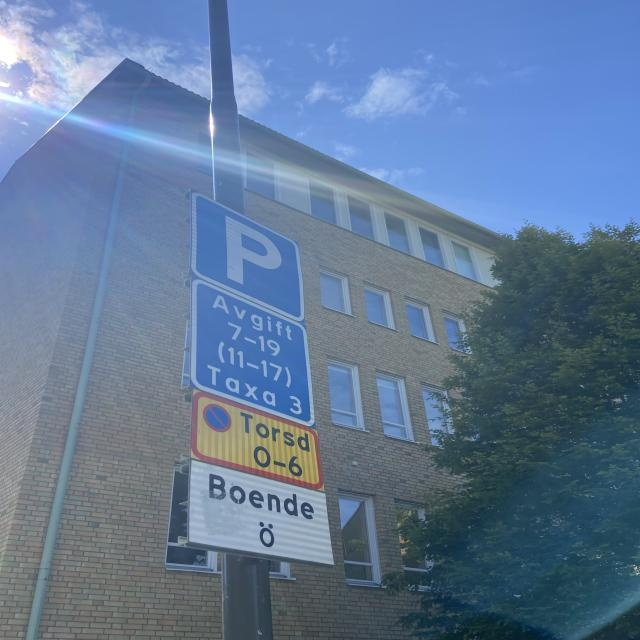P-skylt: (192, 192, 301, 317)
